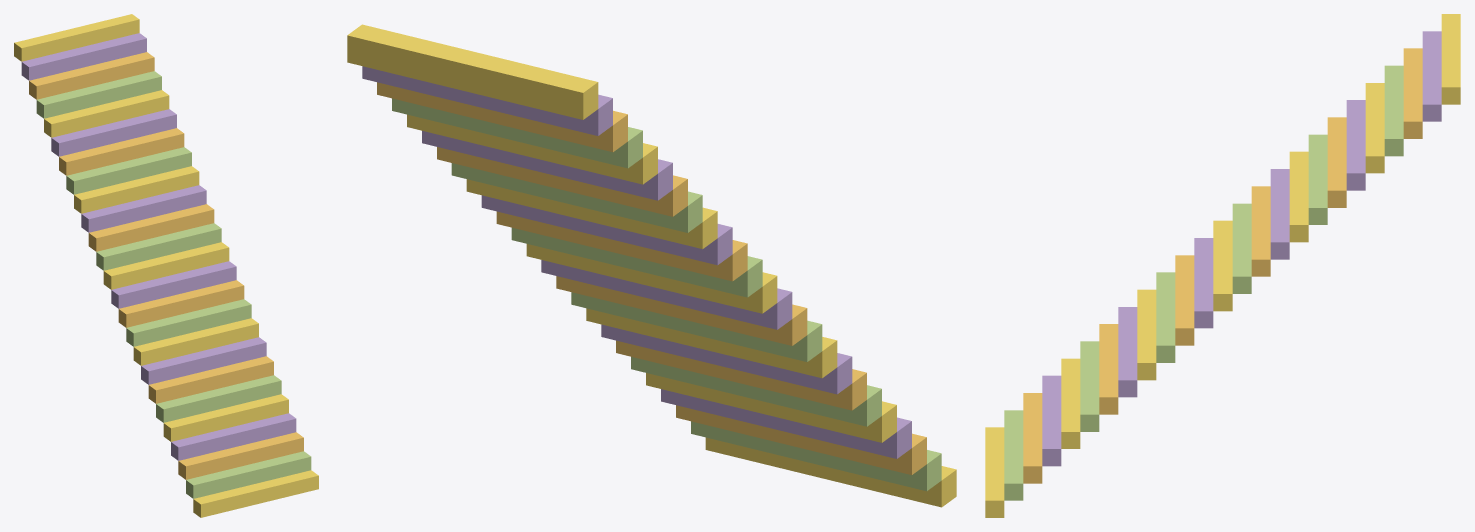
File: Stairs.fbx
The picture shows the model from 3 angles, left to right: view 1: azimuth 30°, elevation 25°; view 2: azimuth 150°, elevation 25°; view 3: azimuth 270°, elevation 25°; orthographic projection. The views are drawn at different scales.
Parts seen in each view (by area): view 1: Stairs; view 2: Stairs; view 3: Stairs.
Boxes of the visible parts, <box> form: Stairs: <box>14,14,318,517</box>; Stairs: <box>347,24,956,507</box>; Stairs: <box>985,14,1460,517</box>.
Bounding box in the file's own units: 441 × 1208 × 1208.
